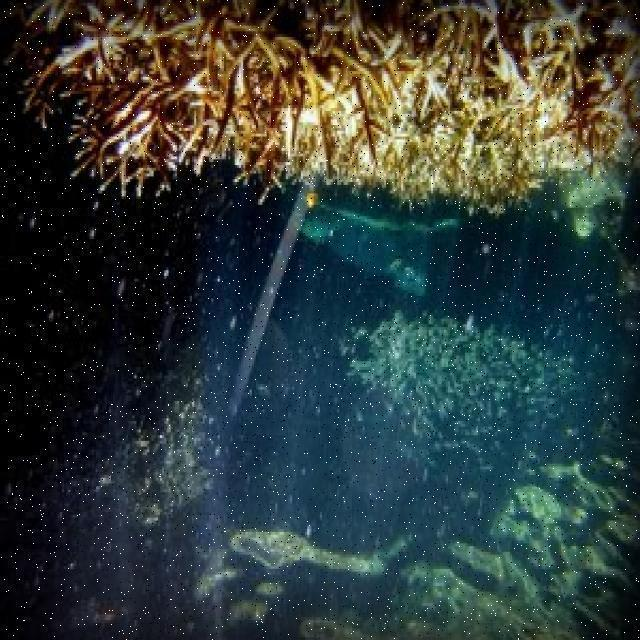Bleached: (297, 1, 635, 193)
Healthy: (25, 2, 264, 163)
